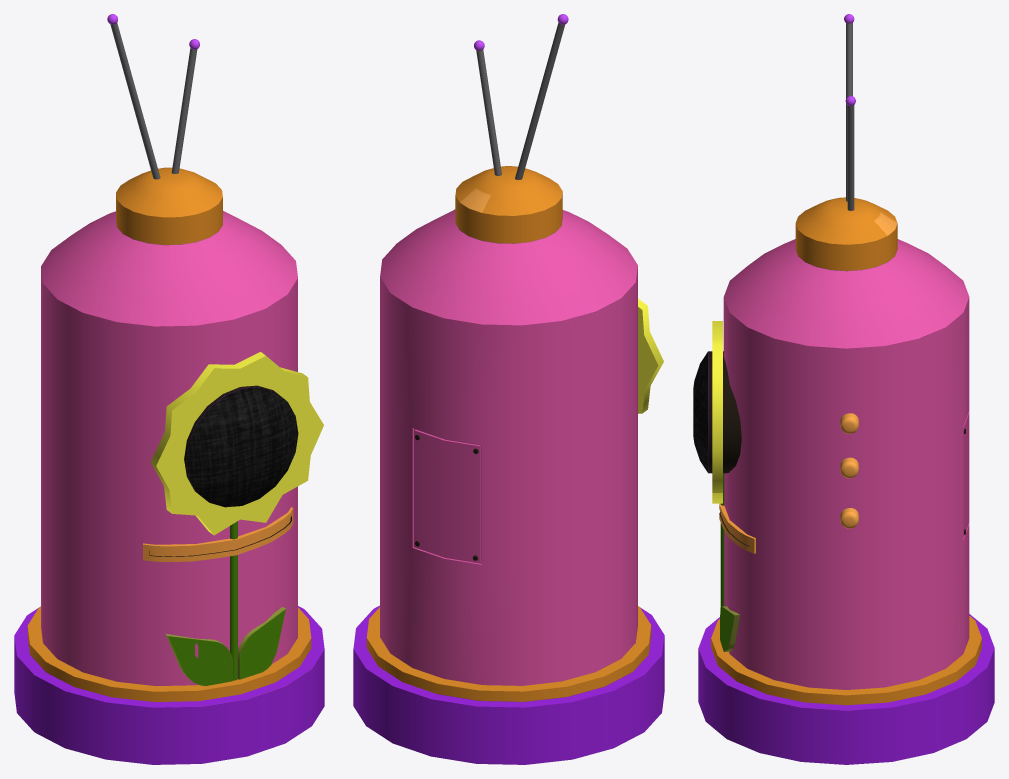
Rendered from AnaKaremDeAnimacion@RadioGirasol.fbx.
3 renders of one model, left to right at view 1: azimuth 30°, elevation 25°; view 2: azimuth 150°, elevation 25°; view 3: azimuth 270°, elevation 25°, orthographic. The views are drawn at different scales.
Visible parts, largest first — view 1: pCylinder14; view 2: pCylinder14; view 3: pCylinder14.
Boxes of the visible parts, x1,y1,x2,y2 form: pCylinder14: (14,14,324,764); pCylinder14: (353,14,664,764); pCylinder14: (693,14,994,764).
Size of the model in its own units: 7.1 by 17.52 by 7.23.
